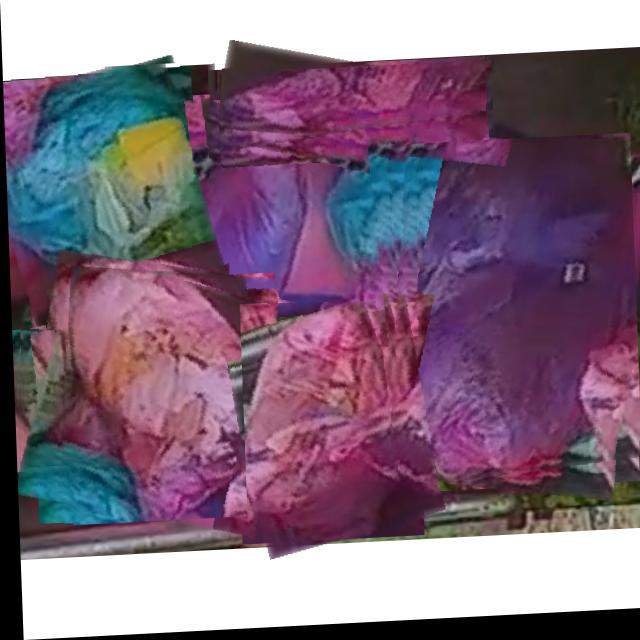other_trashbag: (392, 143, 633, 484), (5, 68, 228, 331), (64, 269, 279, 522), (152, 104, 368, 354), (242, 304, 388, 543), (217, 67, 490, 139), (15, 328, 70, 465)
